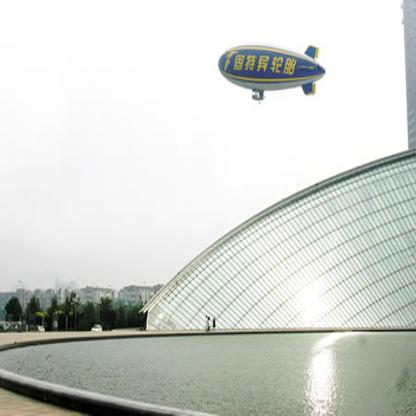Airship: (217, 38, 328, 108)
